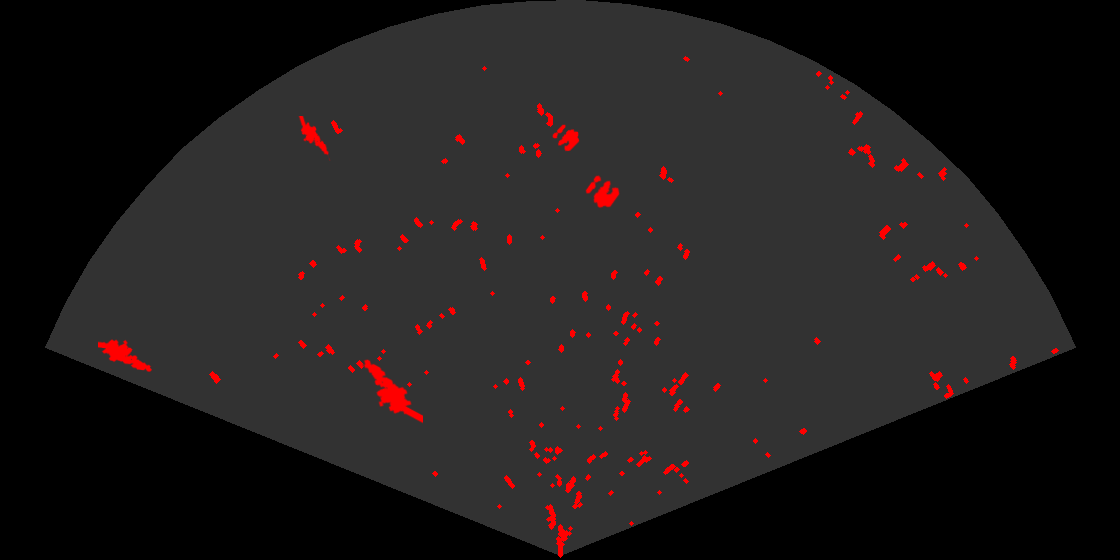ball: (584, 174, 621, 210), (551, 123, 581, 153)
frogman: (362, 358, 423, 425), (98, 338, 154, 373), (297, 116, 331, 161)
